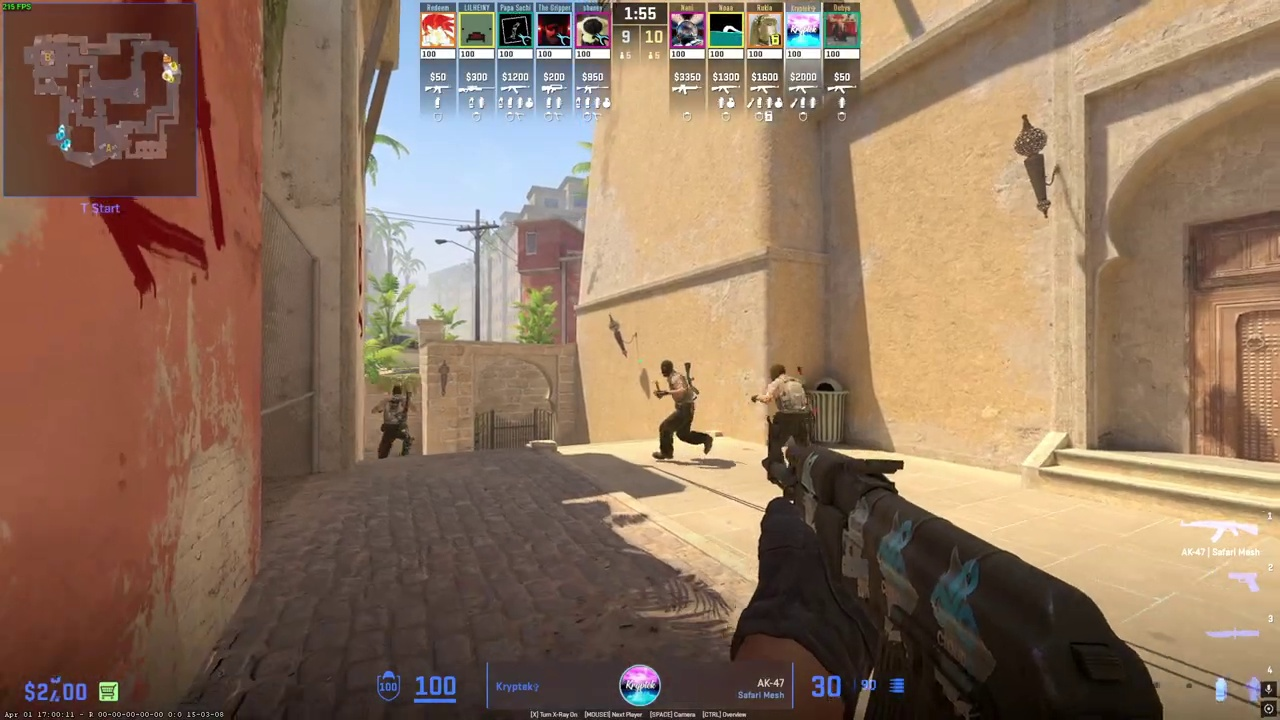Terrorist: (759, 363, 816, 484), (649, 359, 711, 461), (377, 385, 413, 459)
